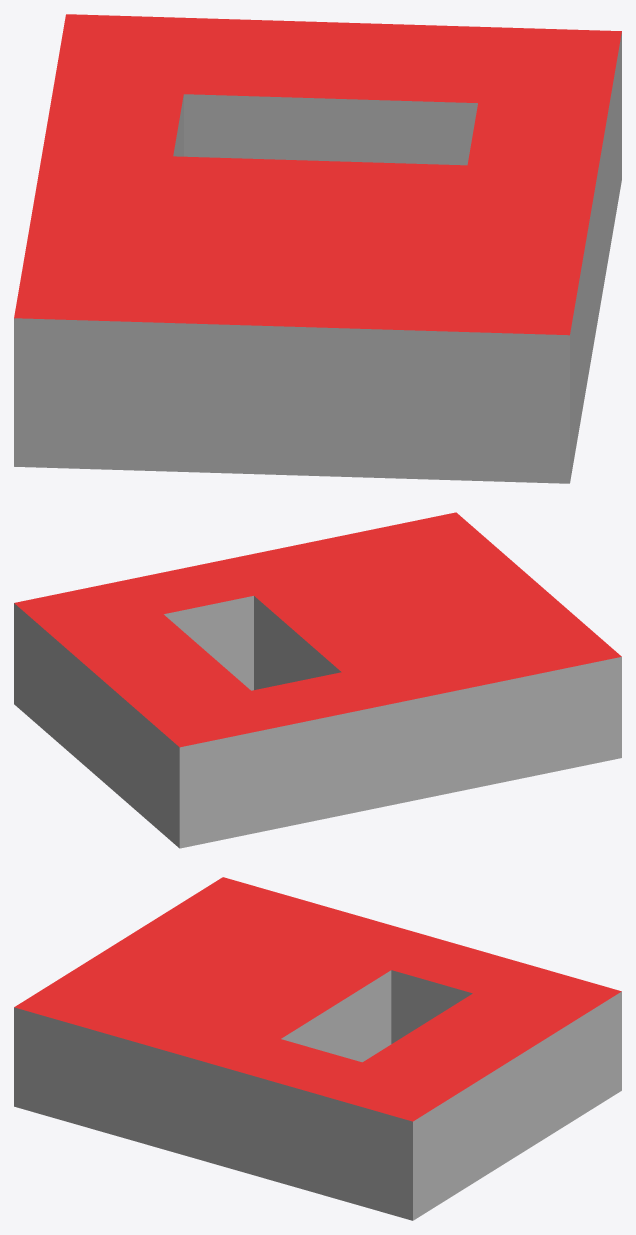
3 views of the same model, one above another, from view 1: azimuth 30°, elevation 25°; view 2: azimuth 150°, elevation 25°; view 3: azimuth 270°, elevation 25° (orthographic). The views are drawn at different scales.
Bounding box in the file's own units: 52.83 × 55.5 × 10.
